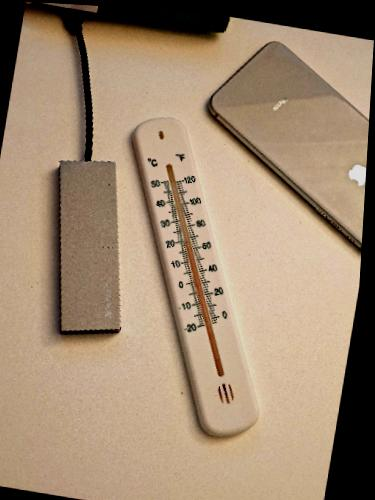thermo: (130, 112, 264, 438)
